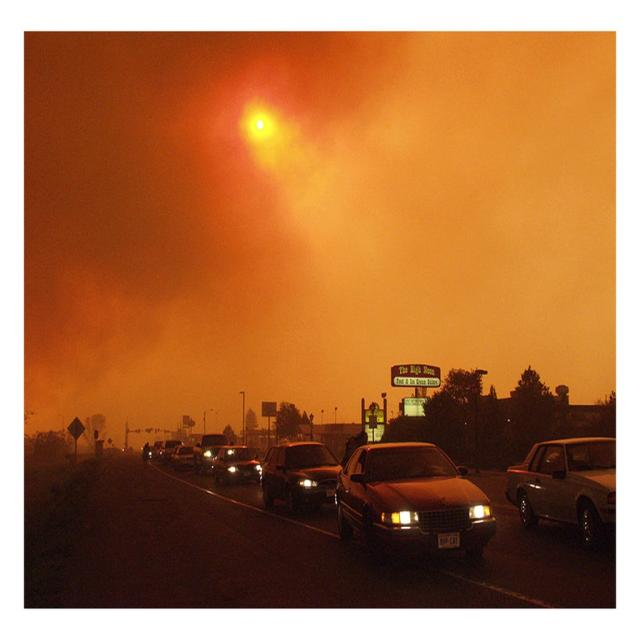car: (333, 445, 497, 562)
